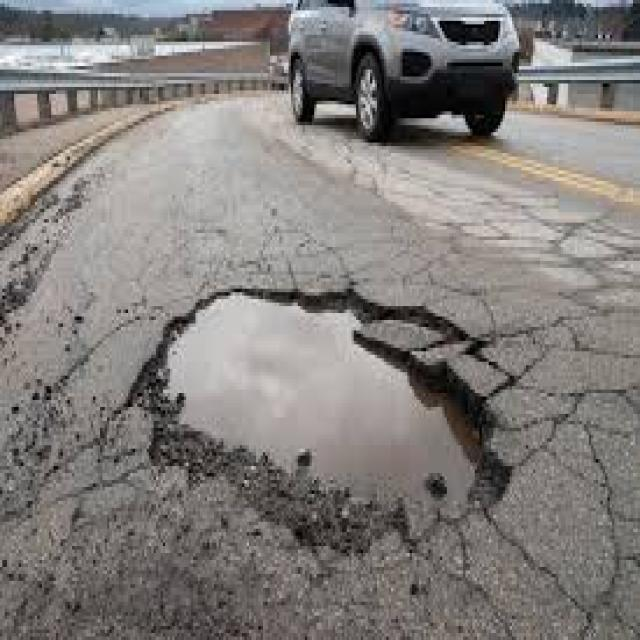Pothole: (154, 285, 503, 536)
